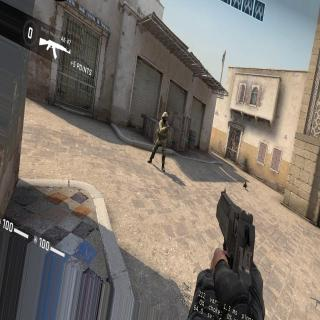CT-Body: (152, 107, 172, 171)
CT-Head: (161, 111, 168, 121)
